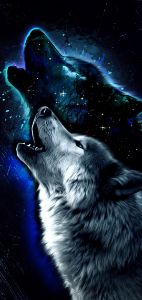wolf: (16, 104, 140, 296), (3, 23, 136, 133)
